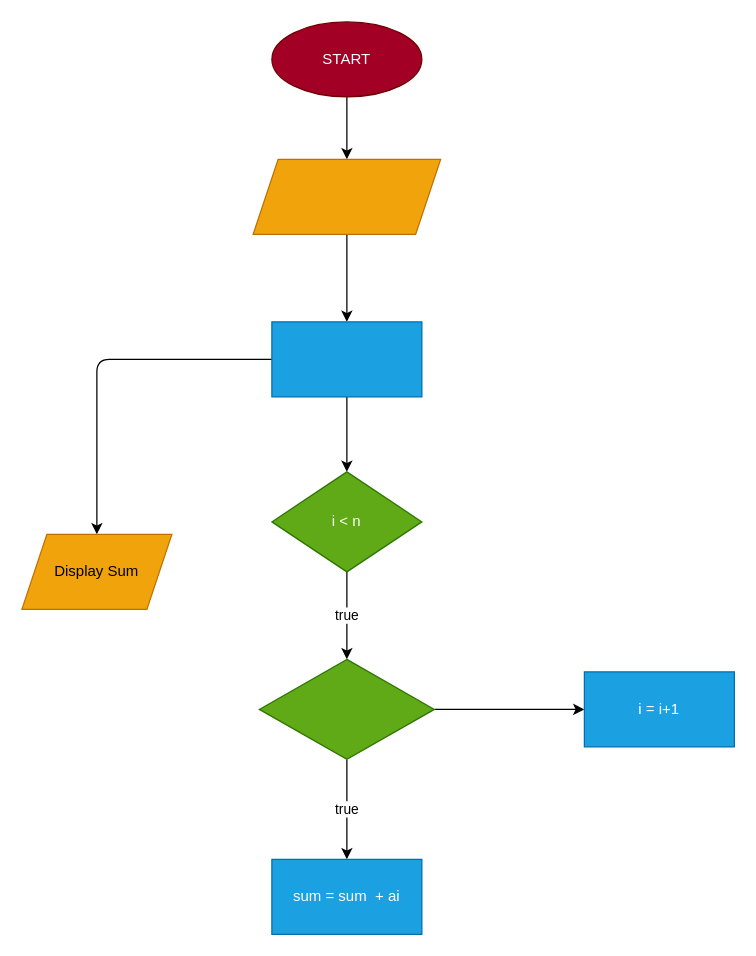
Image size: 756x956. Some labels were removed from this diagram. Here are the shapes that lost their labels. From the top down, the box of each, then its label:
(252, 158, 441, 234): INPUT a1, a2, a3, .....,an
(271, 321, 422, 397): i = 0 sum = 0
(258, 658, 434, 759): ai MOD 3 == 0
